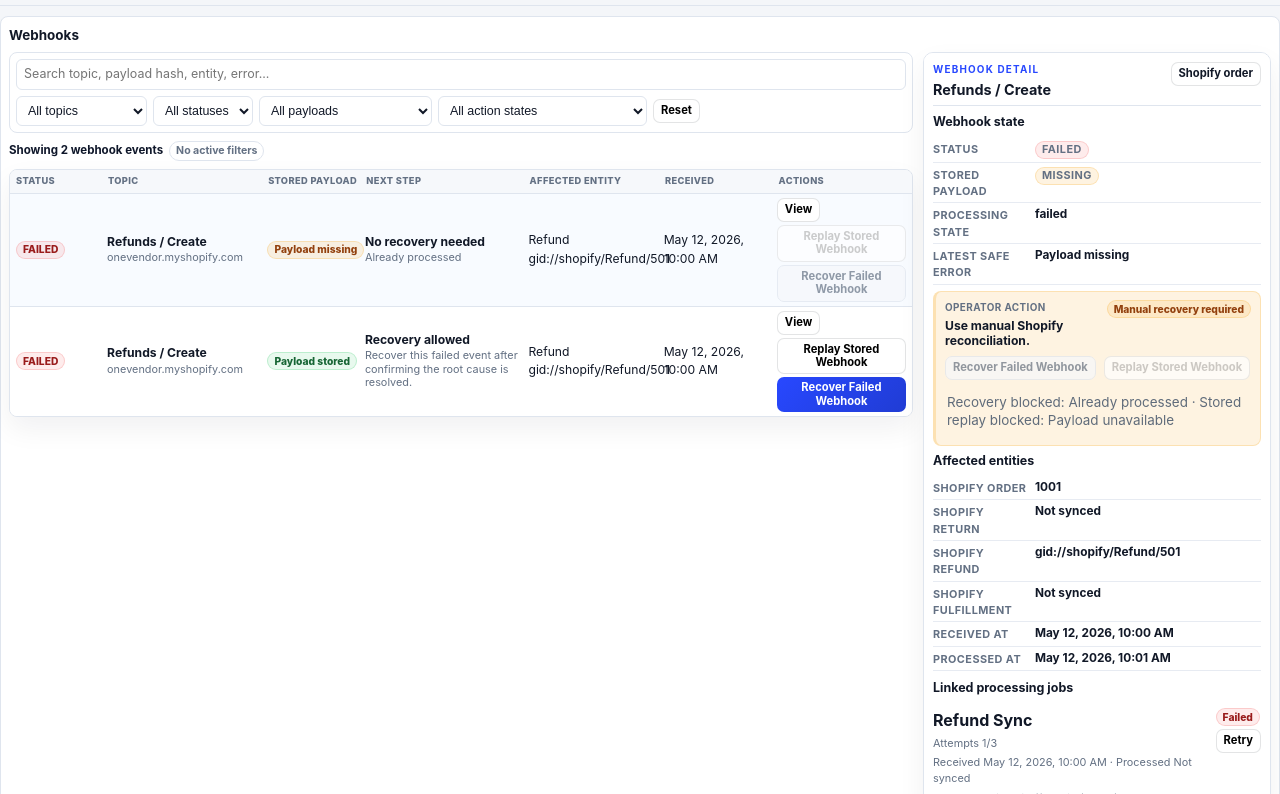
it: AdminDiagnosticsPage control center › confirms failed webhook recovery and explains stored-payload processing
The width and height of the screenshot is (1280, 794).
(page scrolled)
Click the 3rd button "Recover Failed Webhook". click: (841, 395)
box: [777,377,906,412]
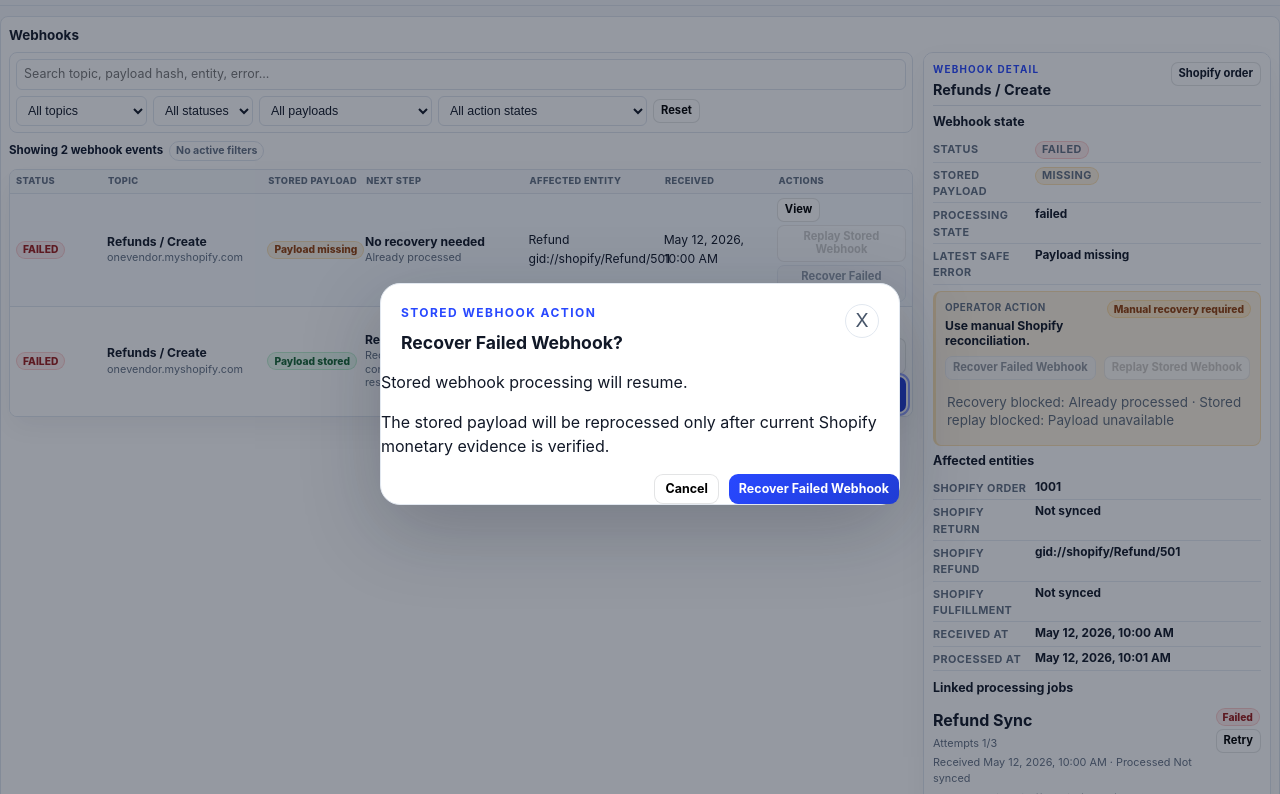
Expected: the dialog "Recover Failed Webhook?" shows "Stored webhook processing will resume.", [381,372,688,392]
Expected: the dialog "Recover Failed Webhook?" shows "The stored payload will be reprocessed only after current Shopify monetary evidence is verified.", [381,412,877,456]
Click the button "Recover Failed Webhook". click: (814, 489)
box: [729,474,899,504]
(page scrolled)
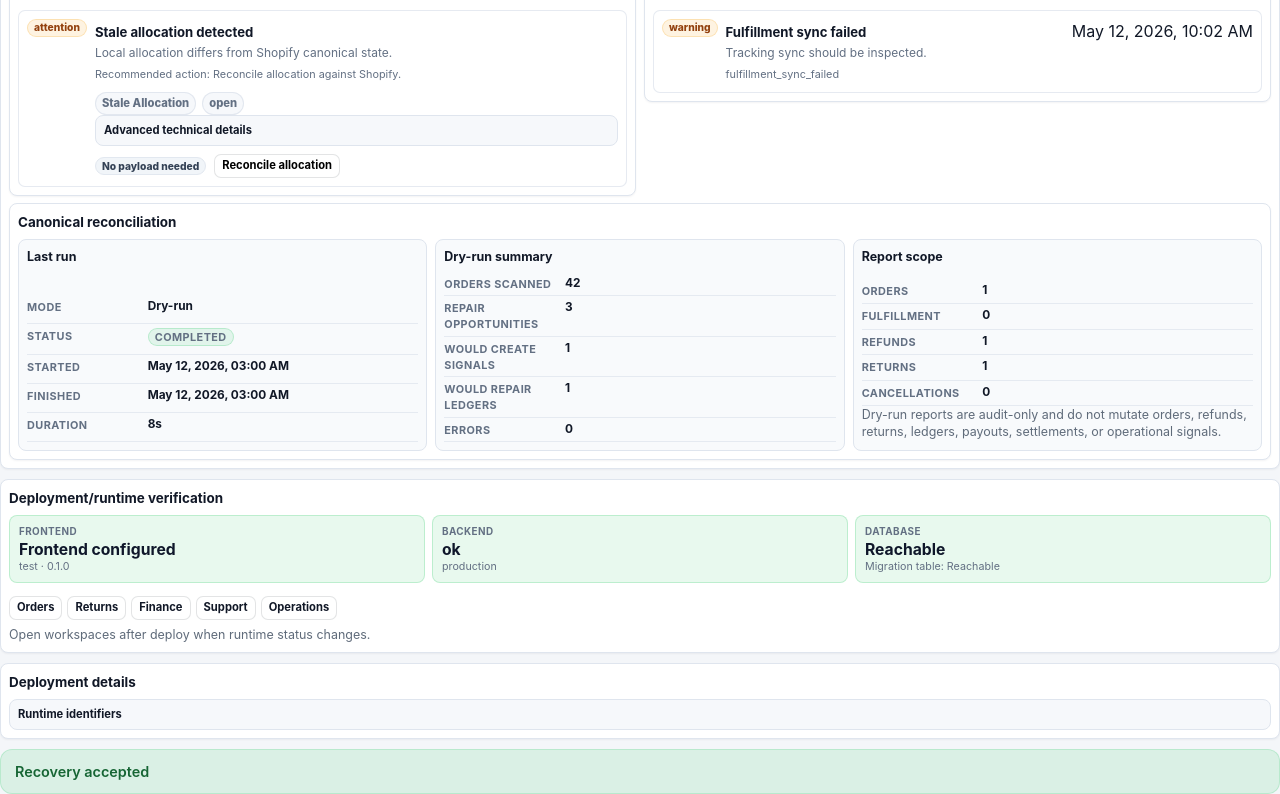
Expected: the text "Recovery accepted" is shown, [0,748,1279,793]
